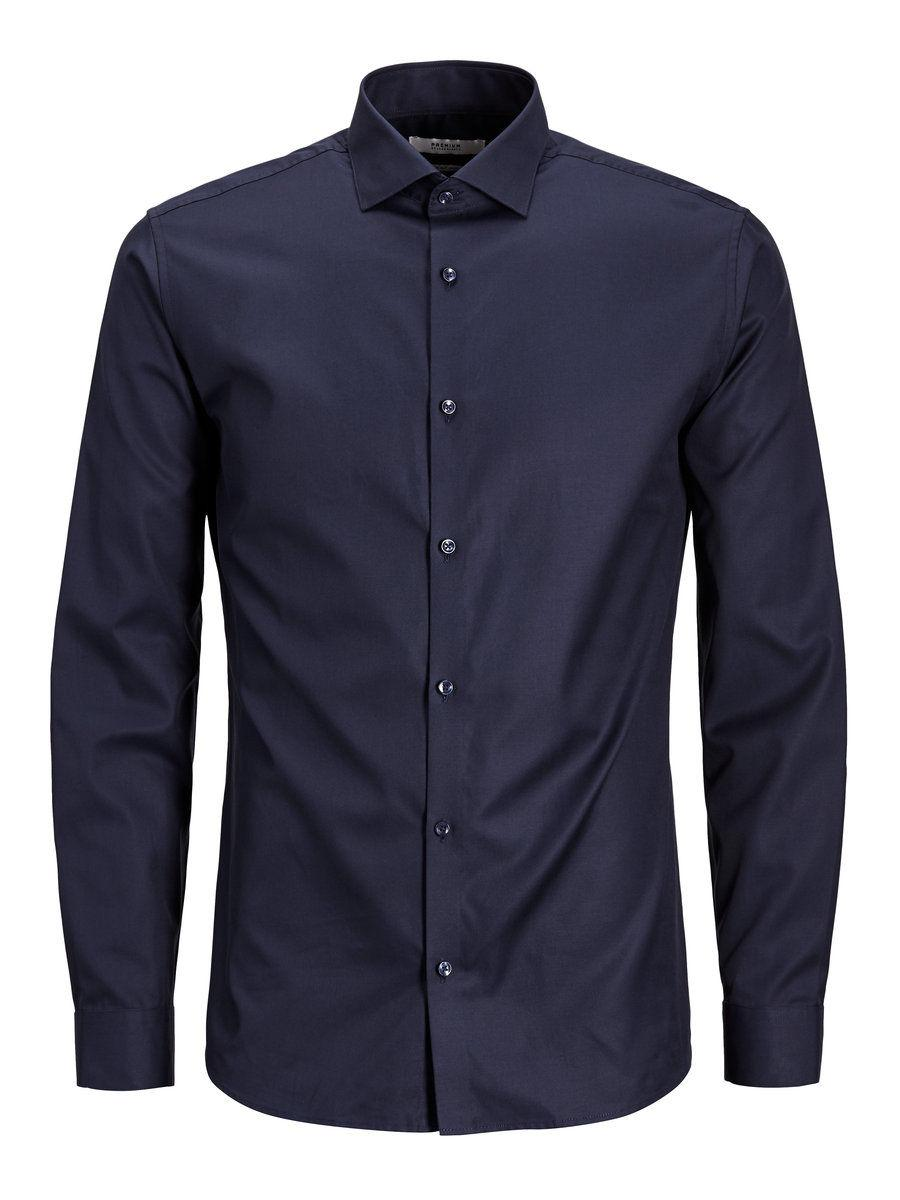teeshirt: (54, 51, 878, 1129)
